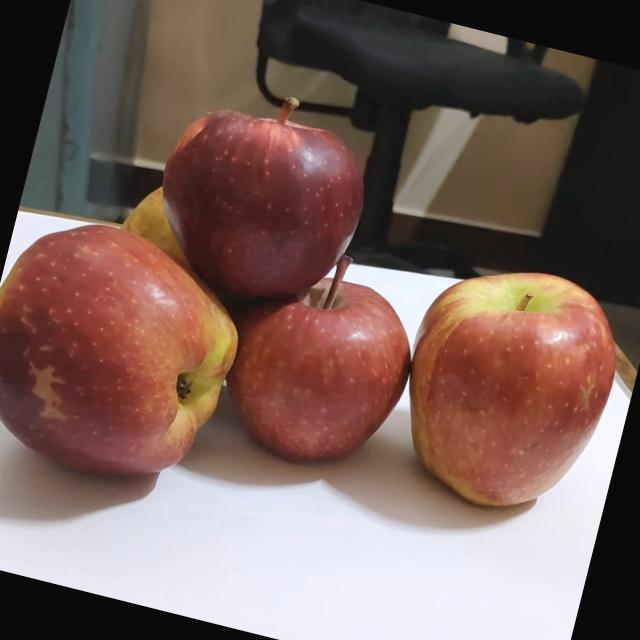apple: (0, 203, 272, 513), (383, 241, 640, 531), (141, 66, 396, 322), (211, 233, 444, 491), (108, 168, 237, 290)
